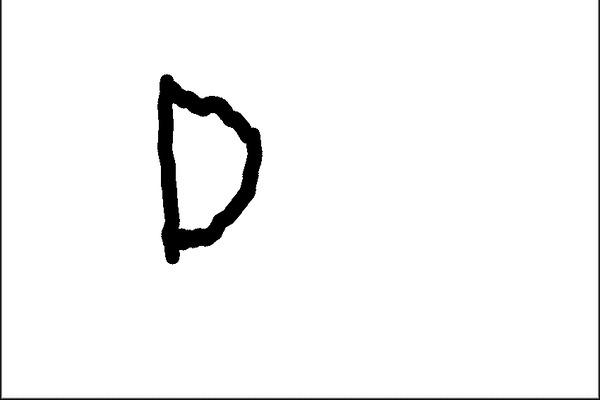D: (150, 69, 266, 269)
